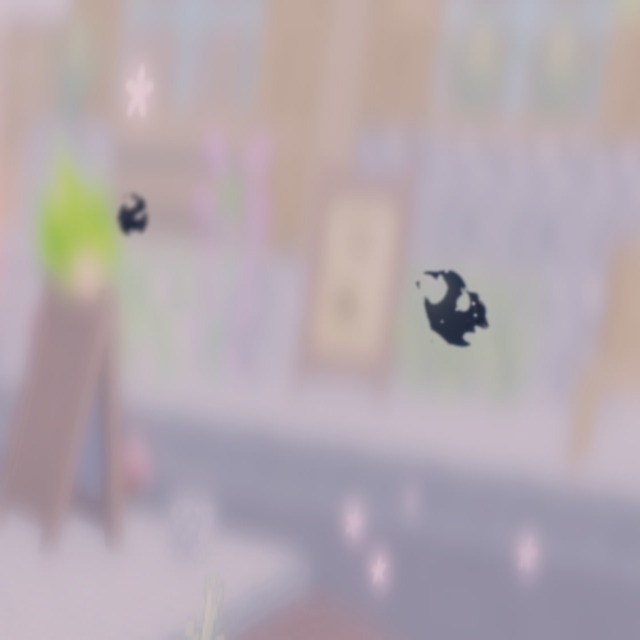urso_preto: (395, 242, 509, 373), (109, 186, 156, 245)
